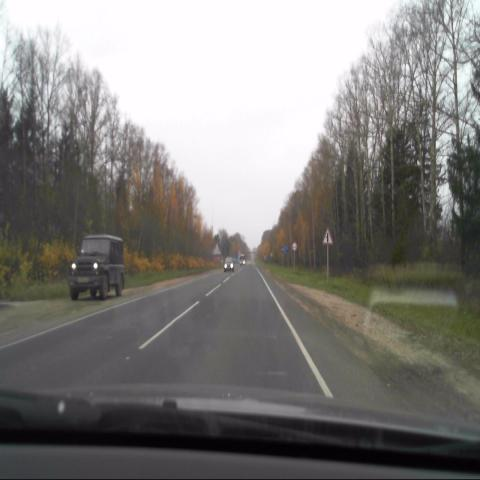2_3_3: (322, 228, 334, 246)
